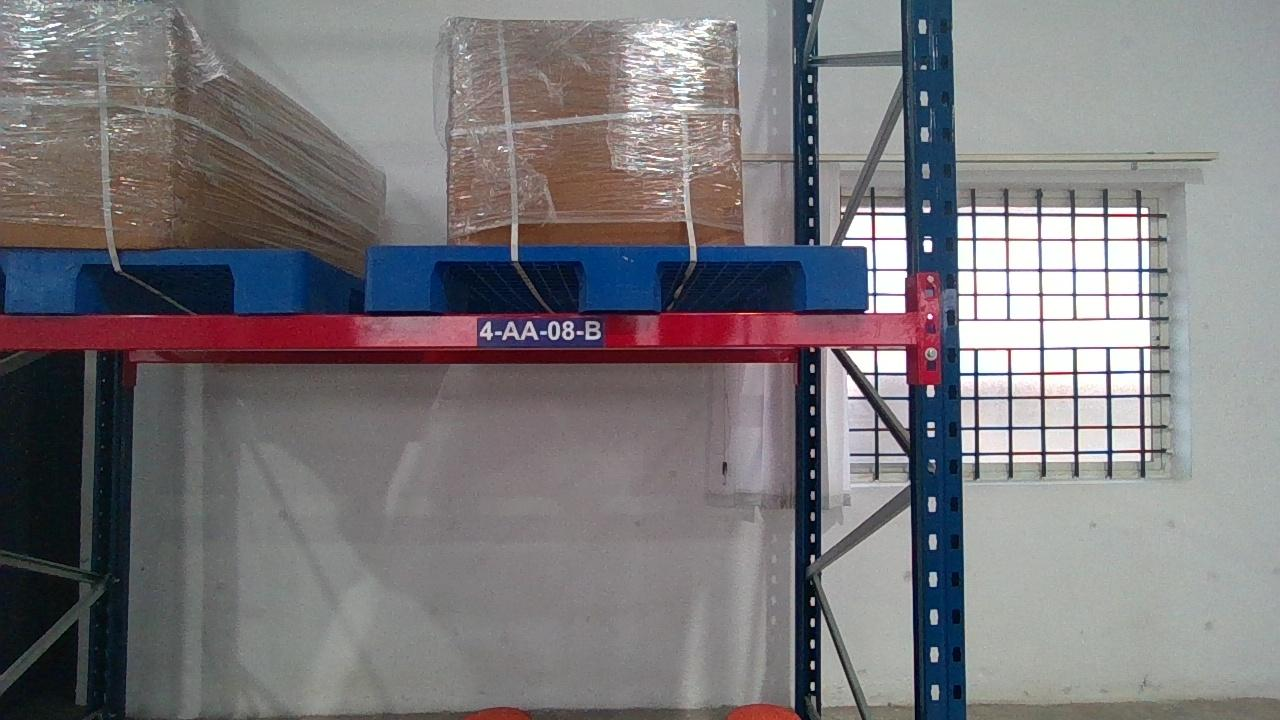h_rack: (0, 309, 924, 349)
small_pallet: (365, 242, 871, 308), (0, 248, 305, 309)
